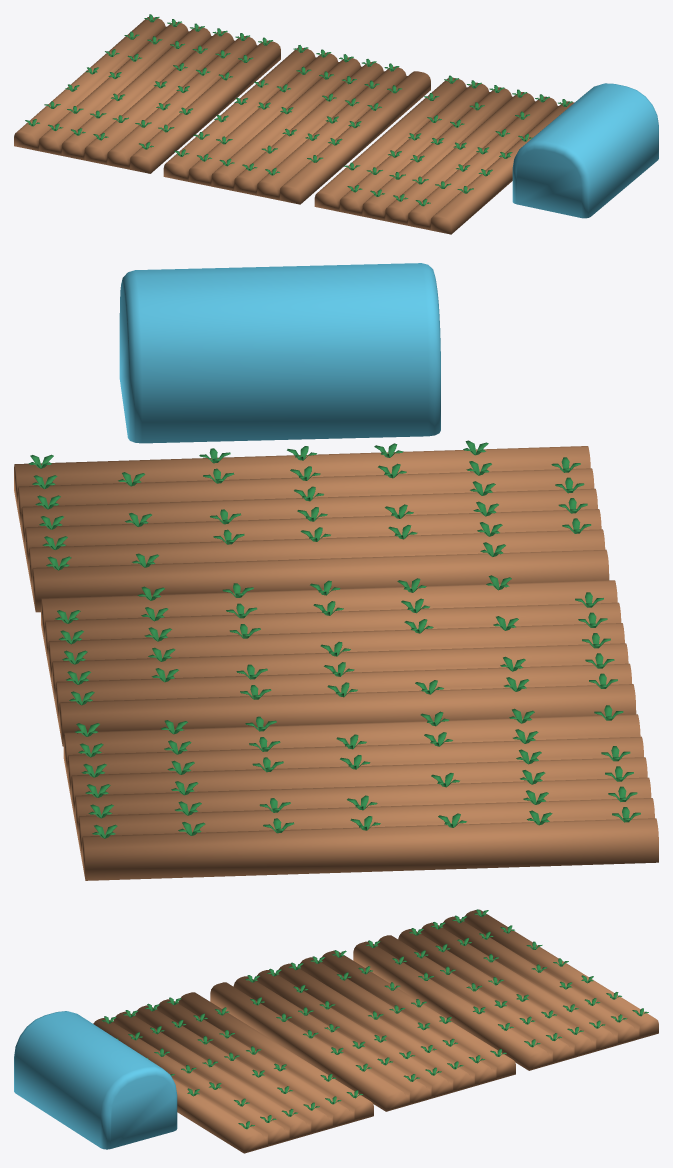
The picture shows the model from 3 angles, top to bottom: view 1: azimuth 30°, elevation 25°; view 2: azimuth 150°, elevation 25°; view 3: azimuth 270°, elevation 25°; orthographic projection. The views are drawn at different scales.
Parts seen in each view (by area): view 1: 立方体137, 立方体137_2, 立方体137_1; view 2: 立方体137, 立方体137_2, 立方体137_1; view 3: 立方体137, 立方体137_2, 立方体137_1.
Boxes of the visible parts, left/top/right/bottom form: 立方体137: left=14, top=17, right=574, bottom=234; 立方体137_2: left=512, top=83, right=658, bottom=218; 立方体137_1: left=25, top=14, right=572, bottom=206; 立方体137: left=14, top=446, right=658, bottom=880; 立方体137_2: left=119, top=263, right=440, bottom=443; 立方体137_1: left=28, top=440, right=640, bottom=838; 立方体137: left=93, top=909, right=658, bottom=1153; 立方体137_2: left=14, top=1011, right=177, bottom=1149; 立方体137_1: left=101, top=909, right=648, bottom=1129.
Bounding box in the file's own units: 11.38 × 1.77 × 13.25.
